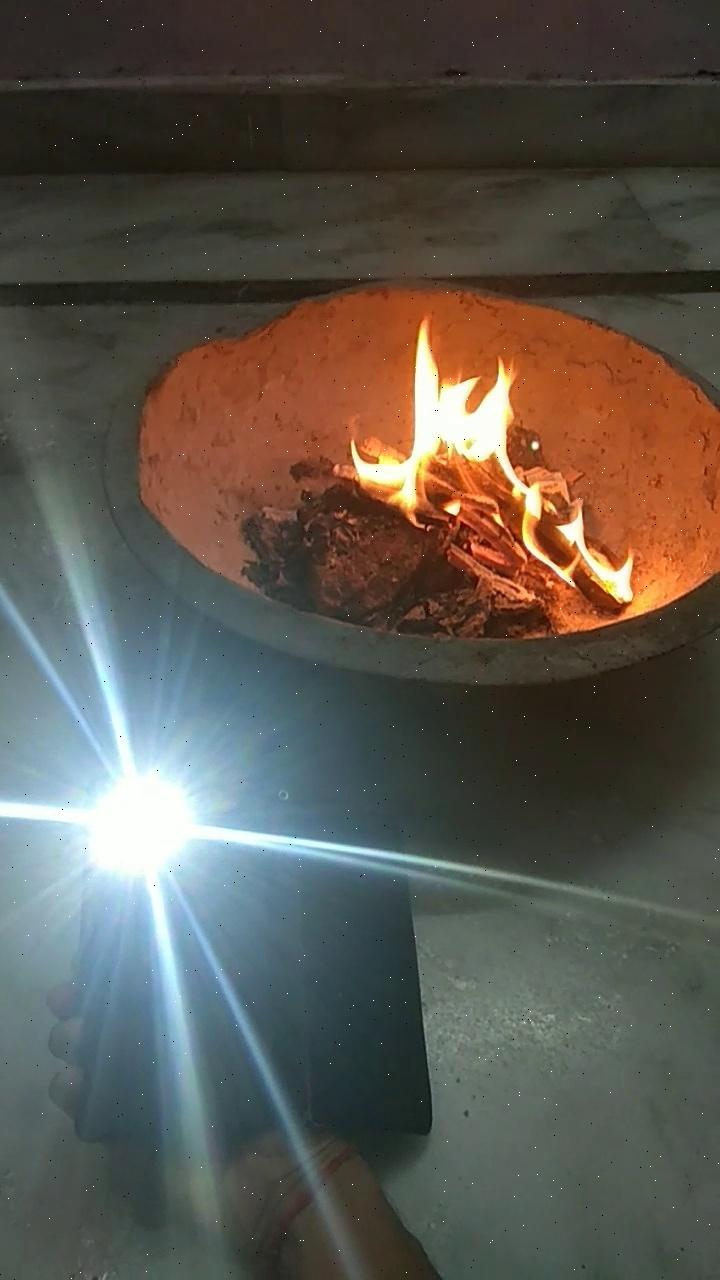fire: (324, 351, 636, 606)
